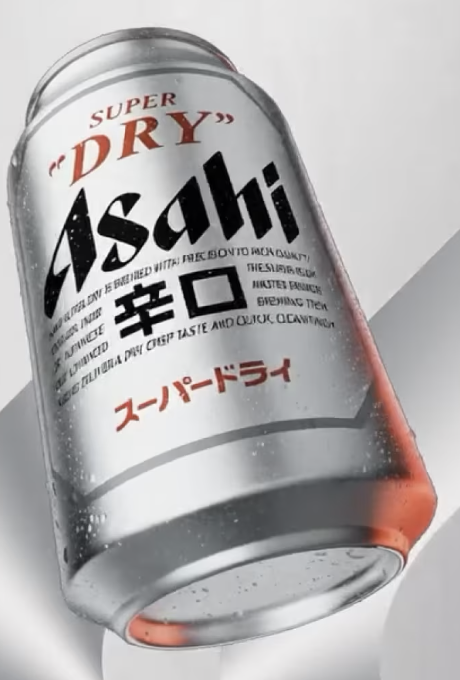beer-can: (7, 20, 437, 663)
